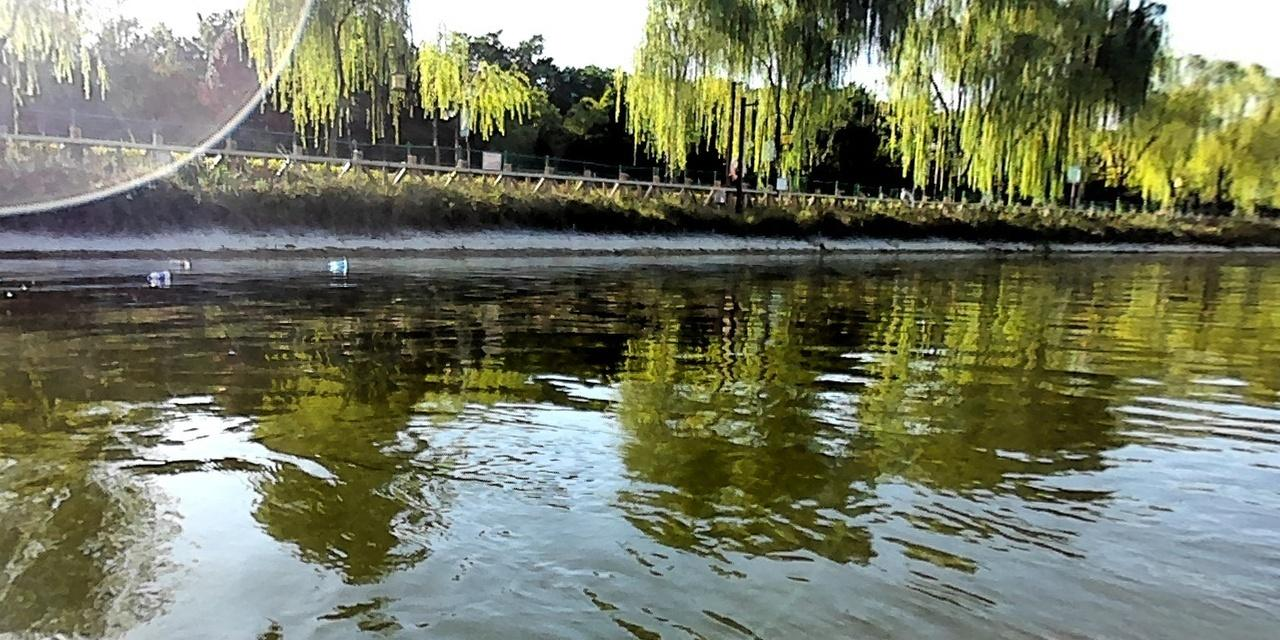bottle: (143, 266, 174, 280), (164, 256, 190, 270), (324, 256, 348, 270)
